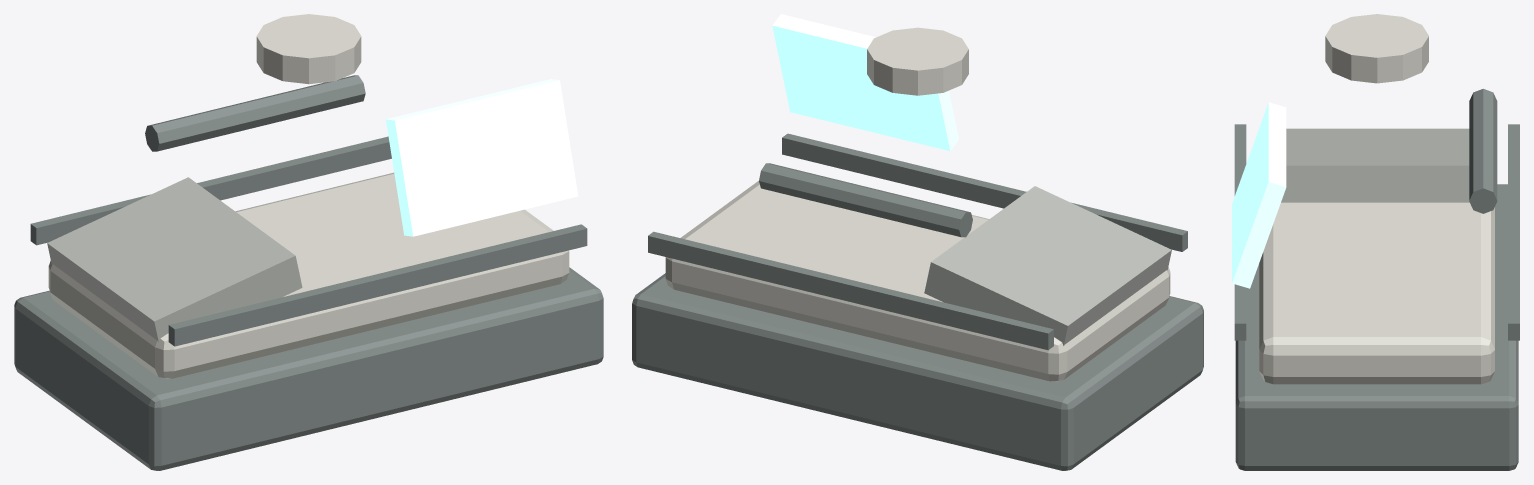
Rendered from prop_autodoc.glb.
3 renders of one model, left to right at view 1: azimuth 30°, elevation 25°; view 2: azimuth 150°, elevation 25°; view 3: azimuth 270°, elevation 25°, orthographic. The views are drawn at different scales.
Parts seen in each view (by area): view 1: prop_autodoc; view 2: prop_autodoc; view 3: prop_autodoc.
Part boxes in pixels (<box>): prop_autodoc: <box>14,14,603,470</box>; prop_autodoc: <box>632,14,1203,470</box>; prop_autodoc: <box>1232,14,1519,470</box>.
Size of the model in its own units: 2.2 by 1.54 by 1.22.
